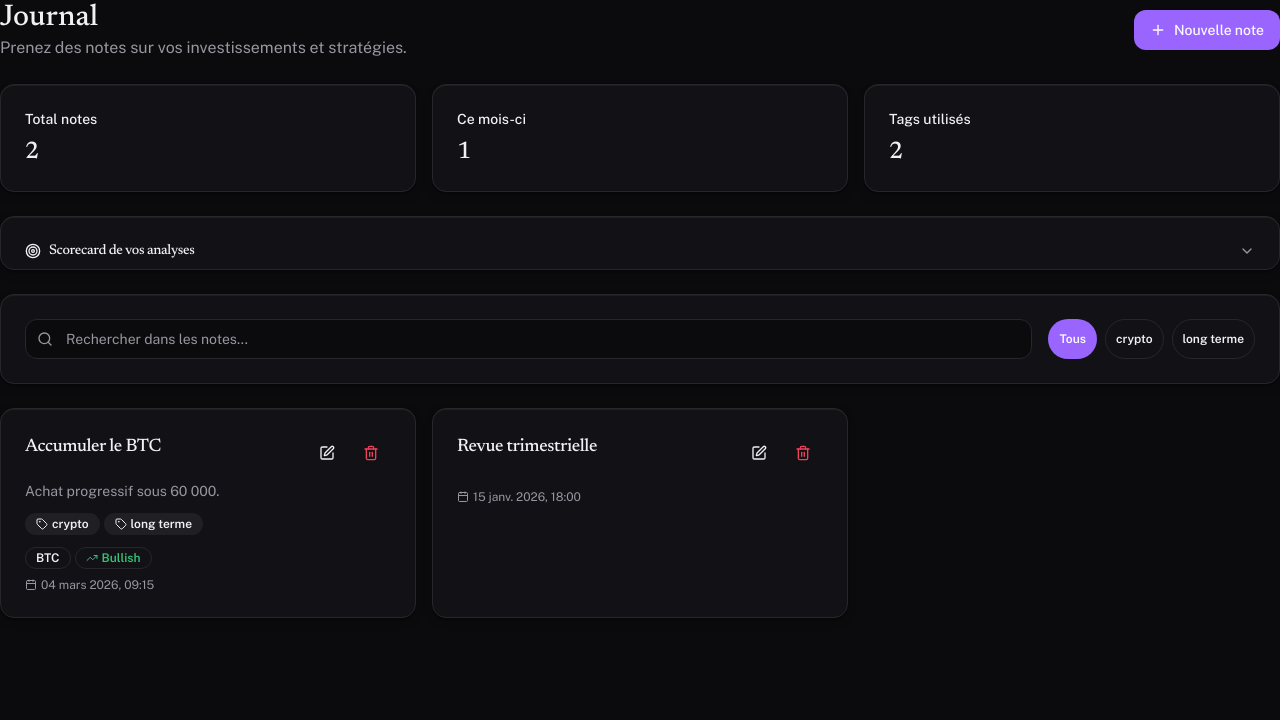
it: NotesPage — défauts corrigés › la suppression demande confirmation dans l’application, pas par le navigateur
Expected: the heading "Accumuler le BTC" is shown, [25,433,161,461]
What coordinates should you click on to do the following:
click the button named "Supprimer la note" in the row of "Accumuler le BTC"
I would click on:
 (371, 453)
Its box is [351,433,391,473].
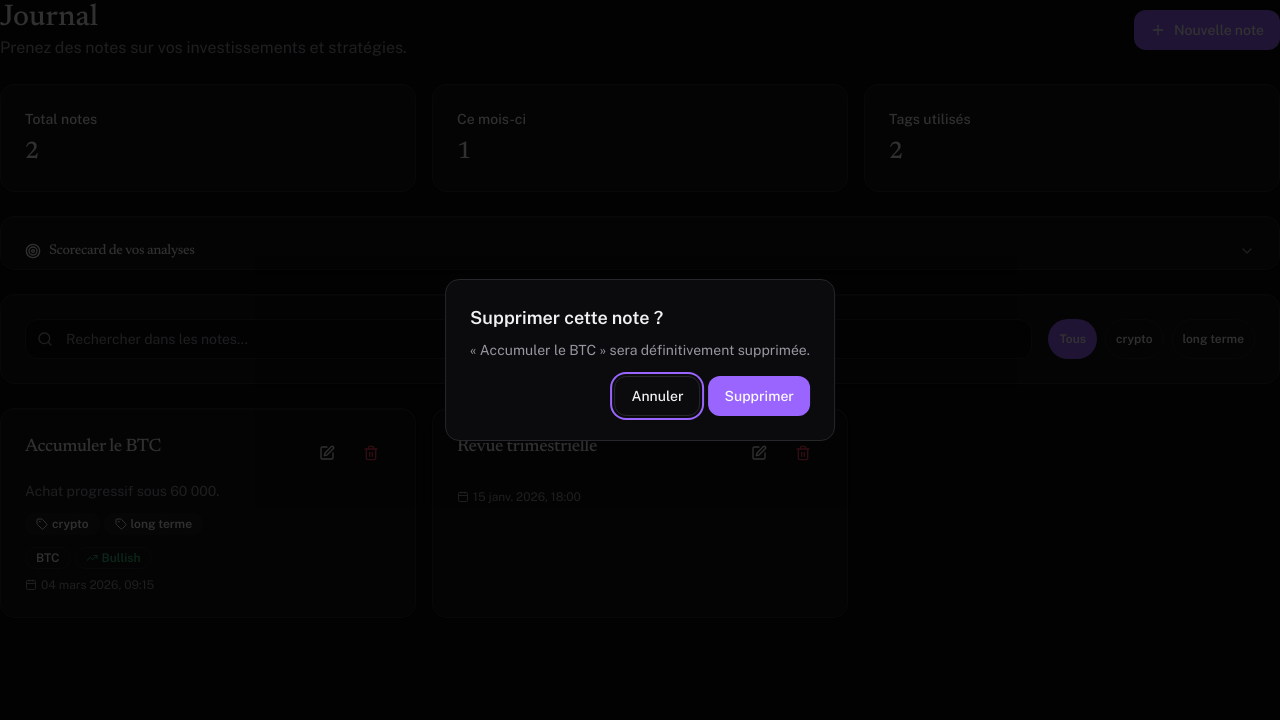
Expected: the text "« Accumuler le BTC » sera définitivement supprimée." is shown, [470,340,810,360]
